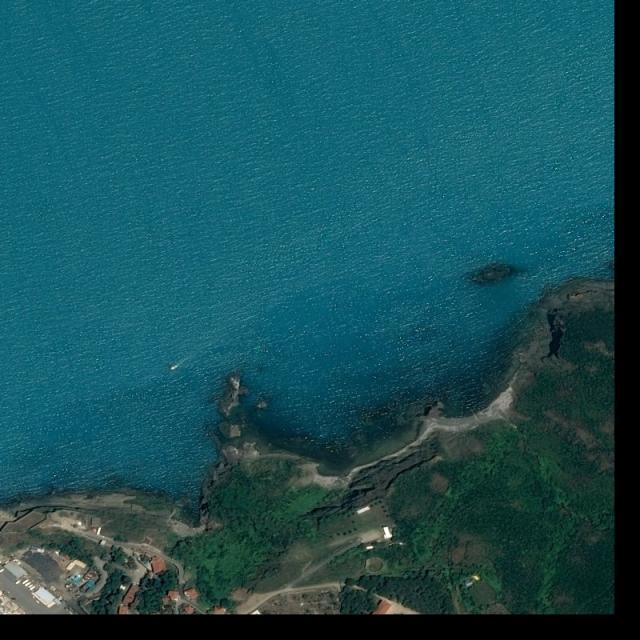ship: (170, 364, 180, 372)
